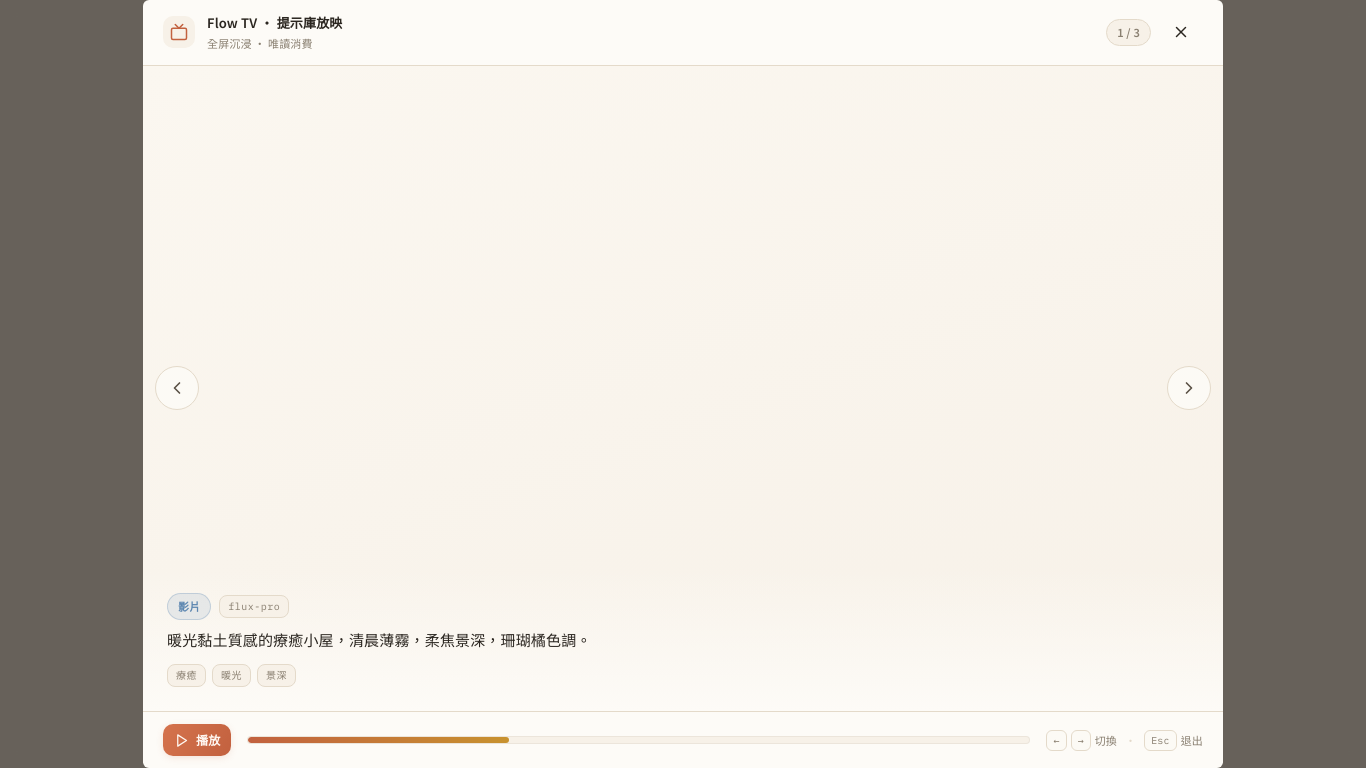
FlowTvOverlay（AIDV-117 / U-14） › 點擊切換鈕：下一個推進索引
Click the button named "下一個" at (1189, 388), box [1167, 366, 1211, 410]
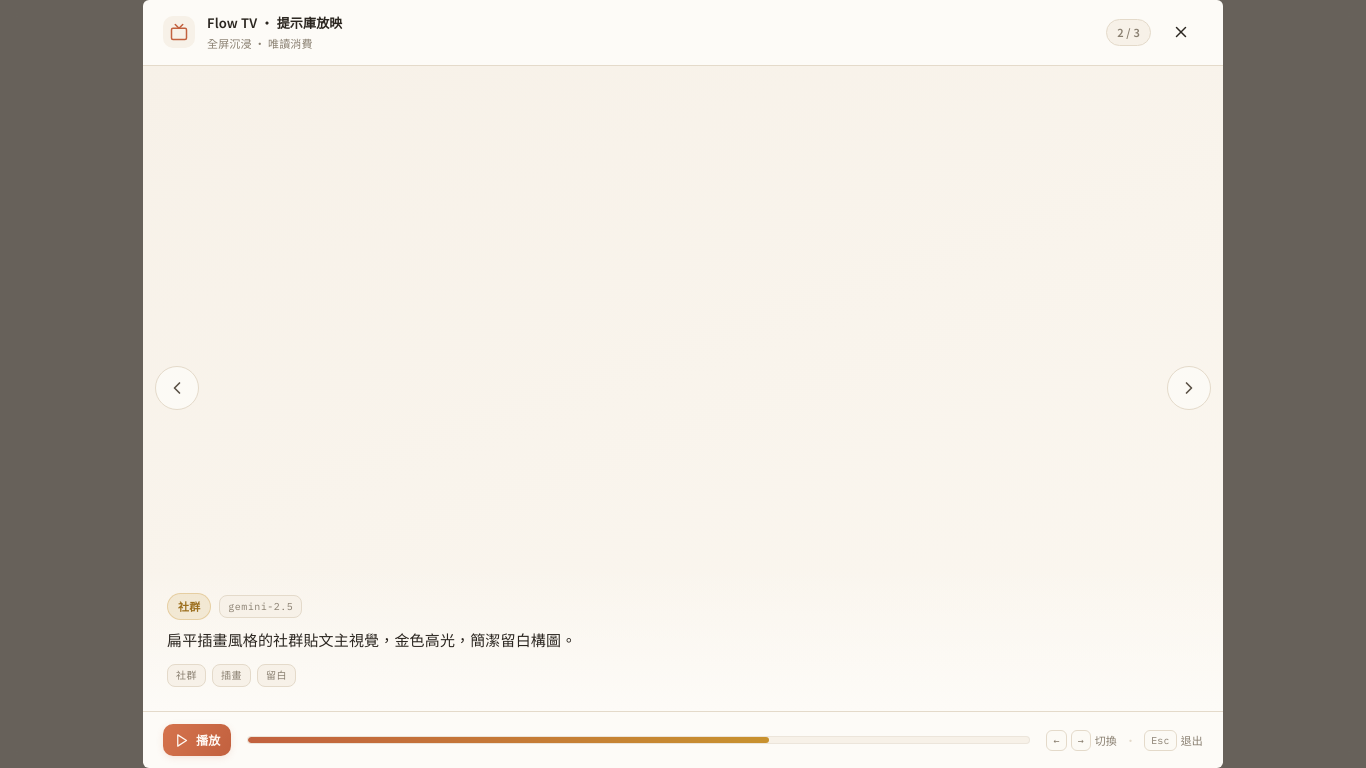
Check: the text "2 / 3" is shown, box [1106, 19, 1151, 46]
